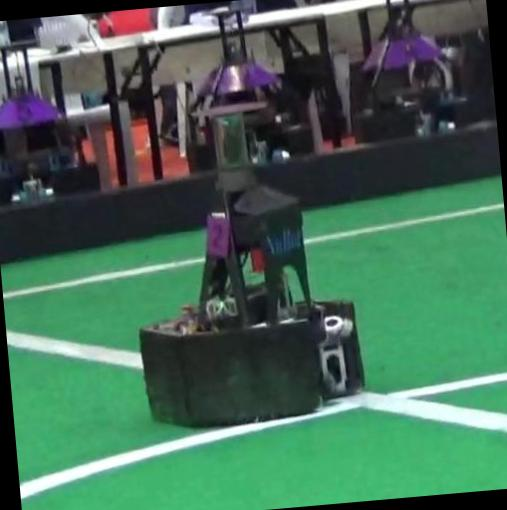robot: (140, 107, 365, 428)
